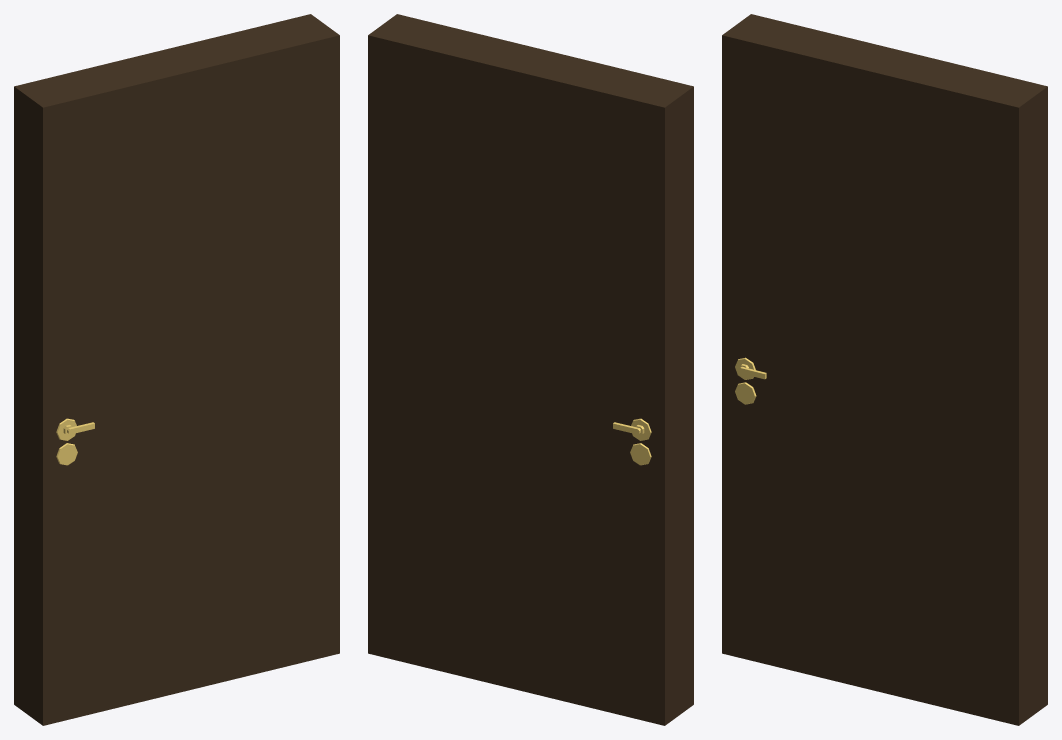
File: Door.fbx
3 renders of one model, left to right at view 1: azimuth 30°, elevation 25°; view 2: azimuth 150°, elevation 25°; view 3: azimuth 330°, elevation 25°, orthographic.
Parts seen in each view (by area): view 1: Cube.007; view 2: Cube.007; view 3: Cube.007.
Part boxes in pixels (bbox=[...]): Cube.007: bbox=[14, 14, 339, 725]; Cube.007: bbox=[368, 14, 693, 725]; Cube.007: bbox=[722, 14, 1047, 725].
Bounding box in the file's own units: 69.21 × 138 × 15.43.
